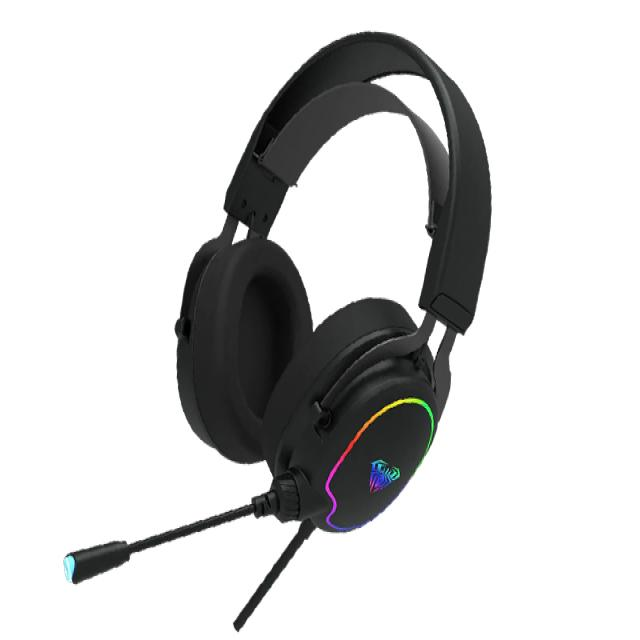headset: (177, 2, 500, 544)
